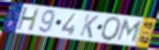4: (60, 13, 78, 37)
9: (38, 9, 57, 34)
H: (15, 6, 41, 33)
K: (78, 13, 100, 39)
M: (115, 18, 144, 43)
O: (100, 17, 122, 42)
